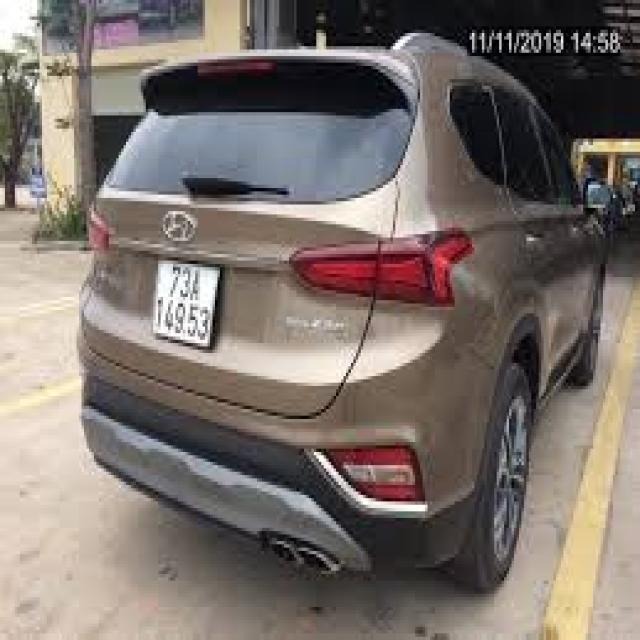bien_so: (129, 239, 230, 387)
